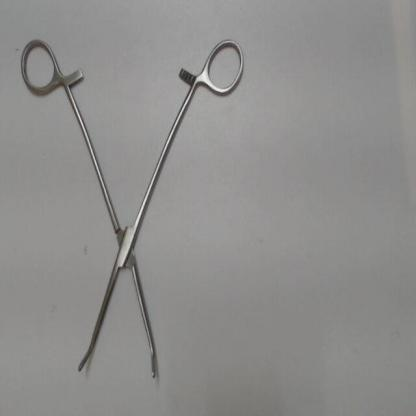Lahey Forceps: (14, 35, 252, 387)
